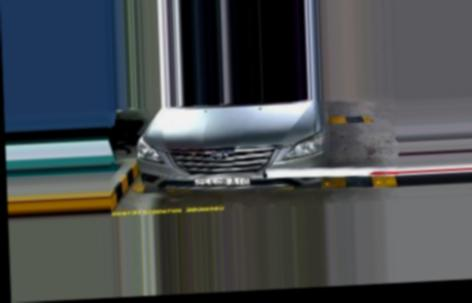License_Plate: (193, 175, 251, 187)
